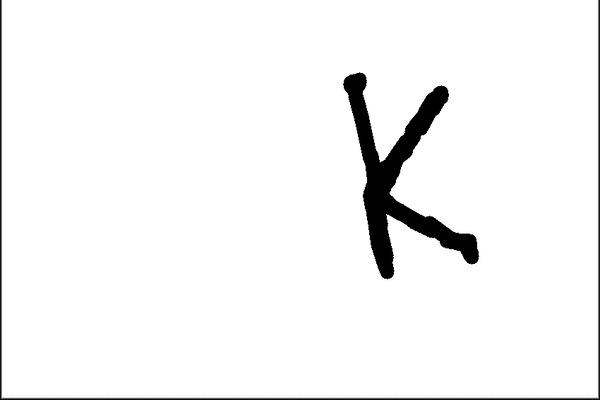K: (335, 62, 485, 280)
